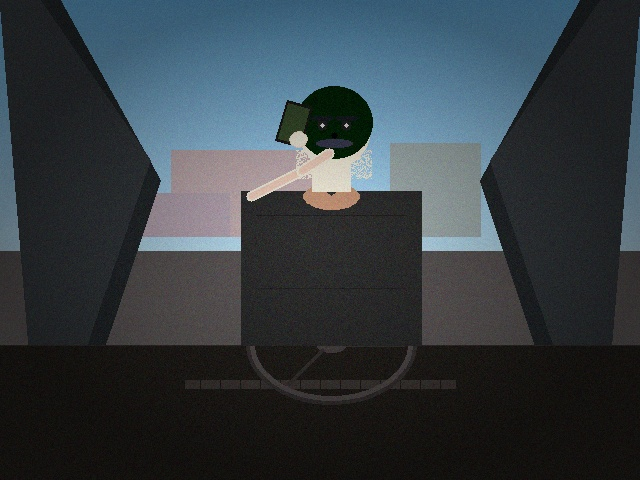phone_usage: (273, 95, 315, 153)
